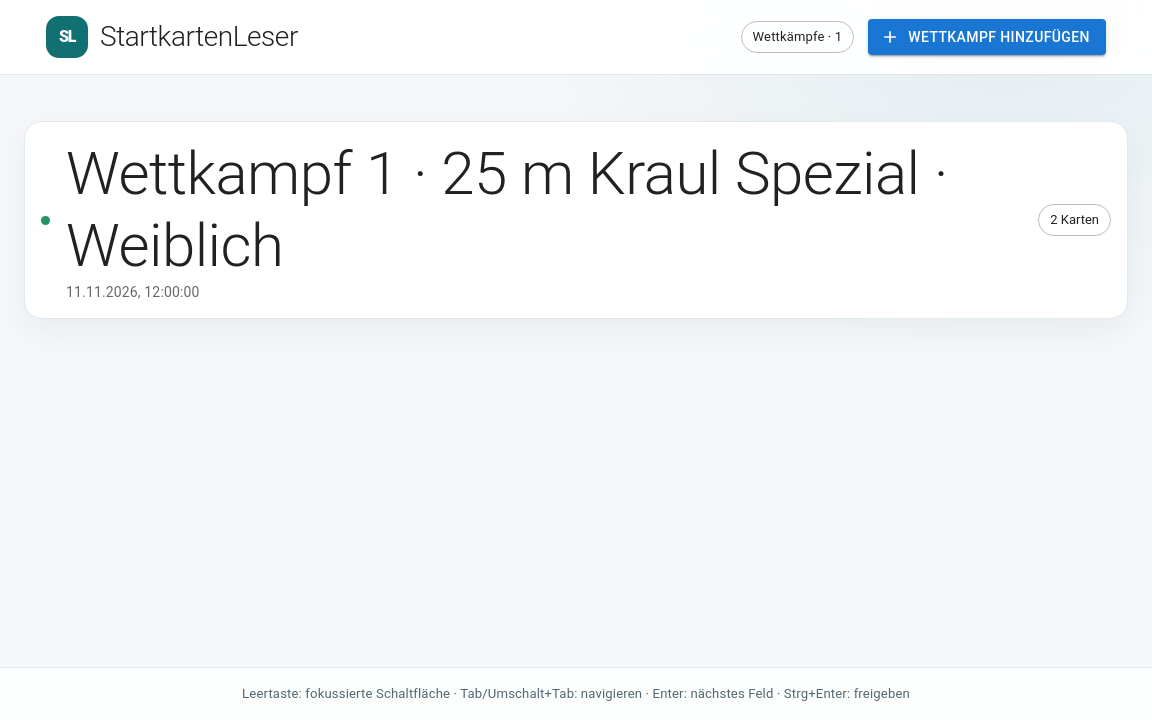
Test: shared page layout › uses configured Lagen from bootstrap without a management button
The image size is (1152, 720).
Check: the button "Wettkampf 1 · 25 m Kraul Spezial" is shown, box [25,122,1127,318]
Click the button "Wettkampf hinzufügen" at [987, 37], box [868,19,1106,55]
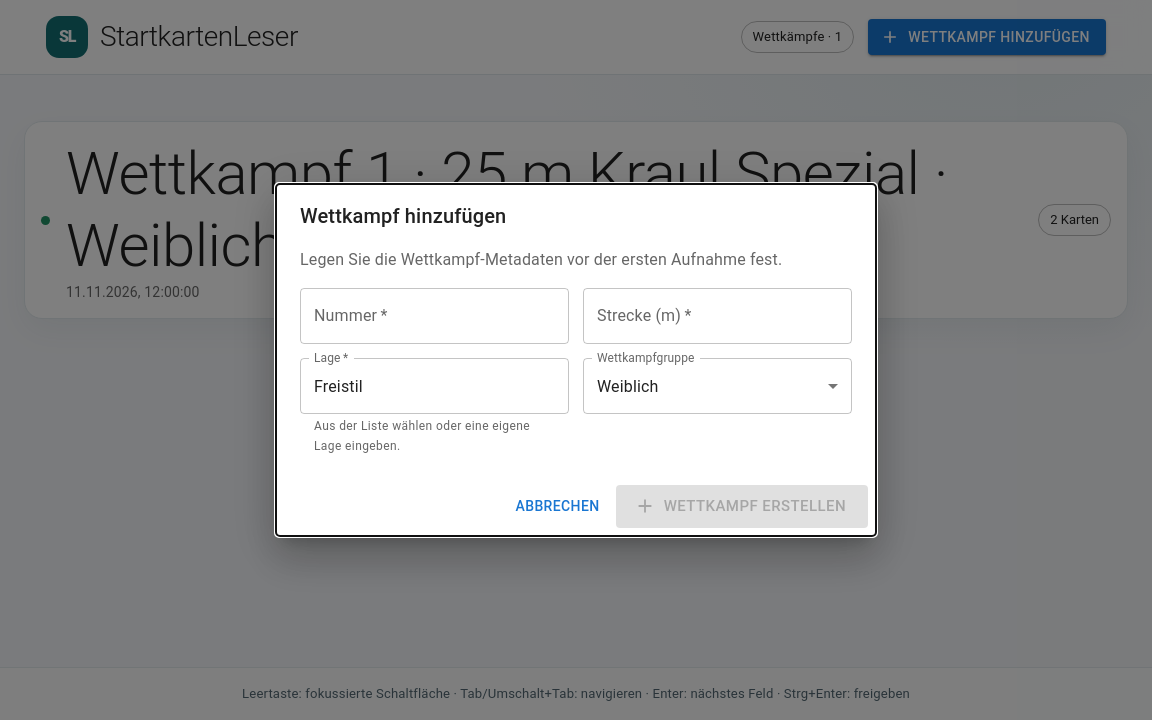
Click the dropdown labelled "Lage" at [420, 386], box [309,368,530,406]
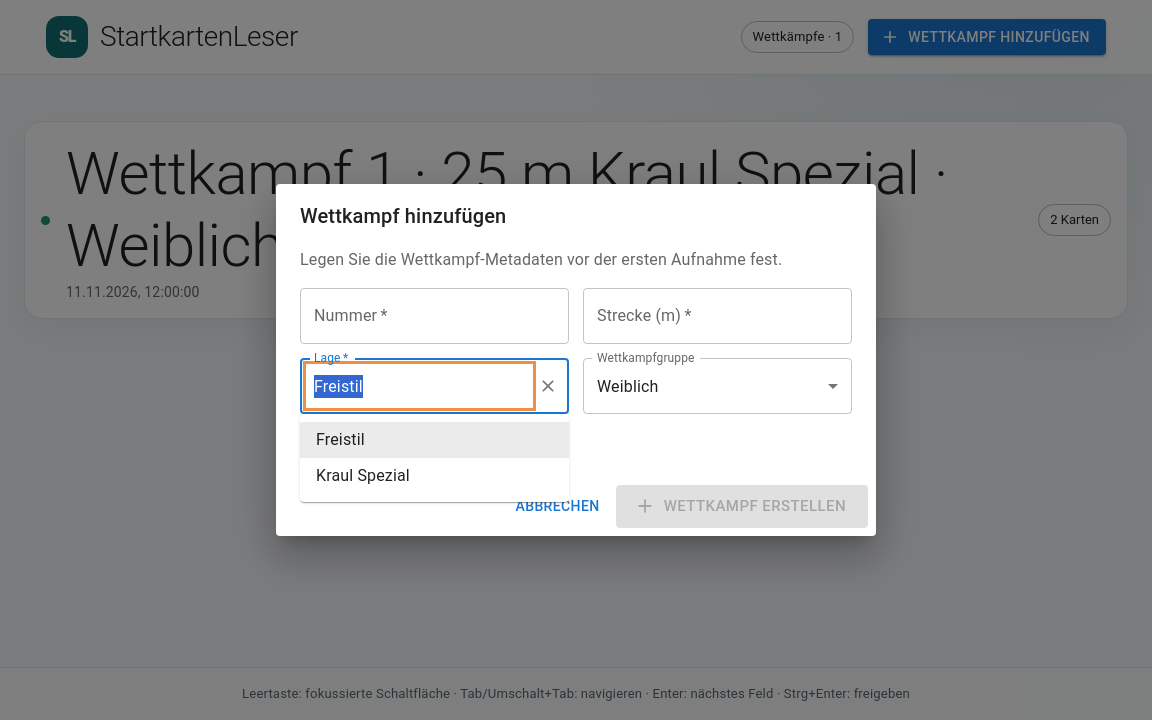
Check: the option "Kraul Spezial" is shown, box [316,466,410,485]
